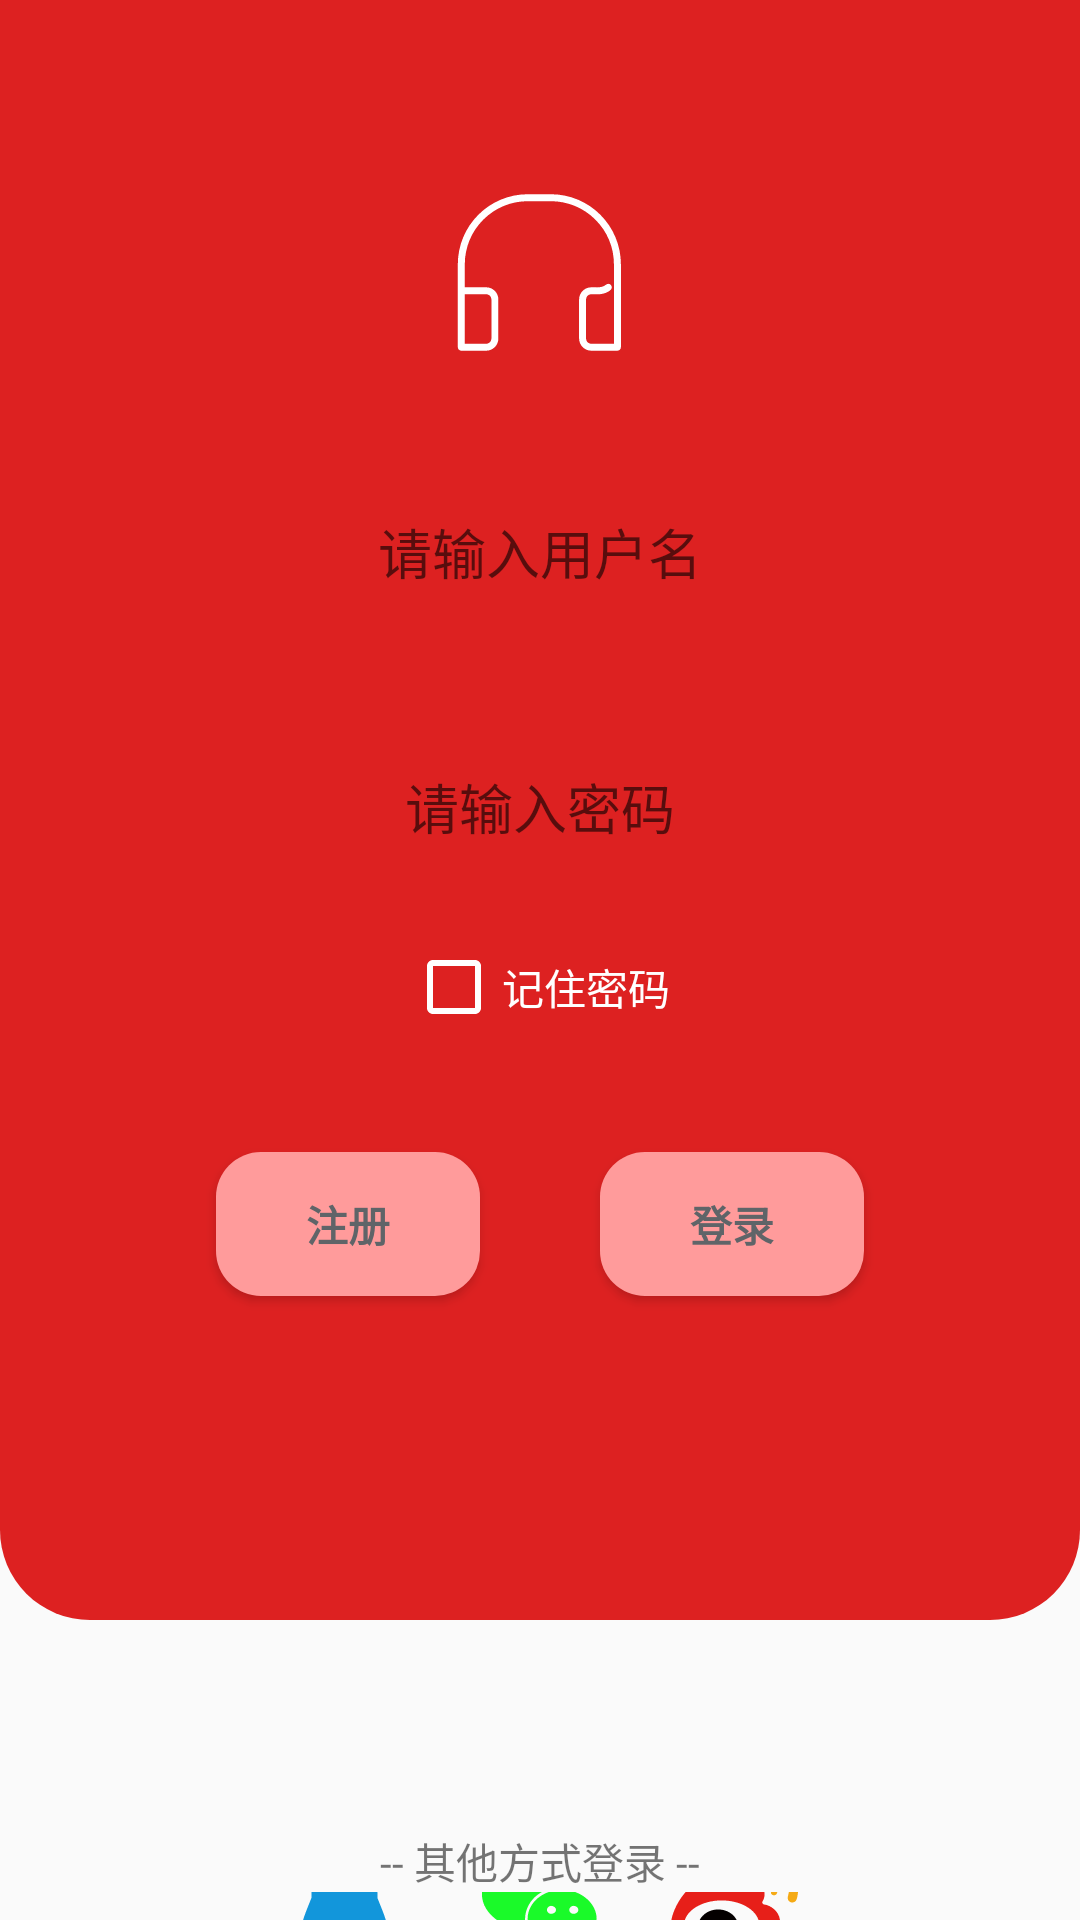

Icon click points for this 1080w x 1920h phone screenshot, format (x,y):
music: (539,272)
